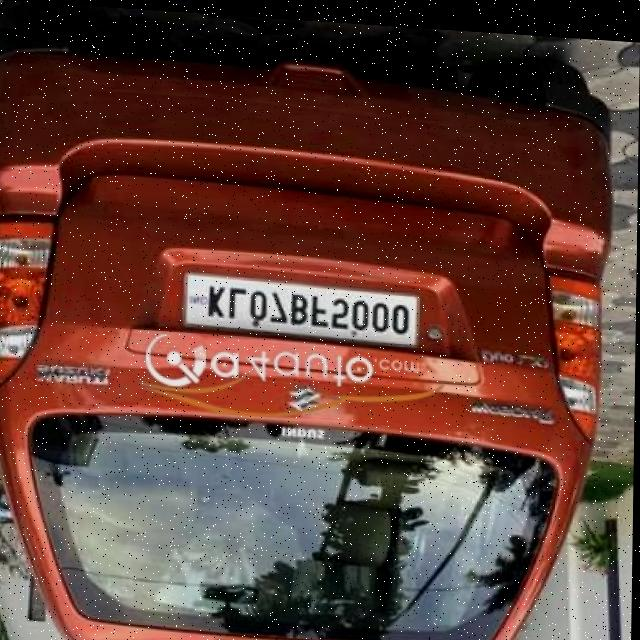plate: (184, 271, 422, 339)
